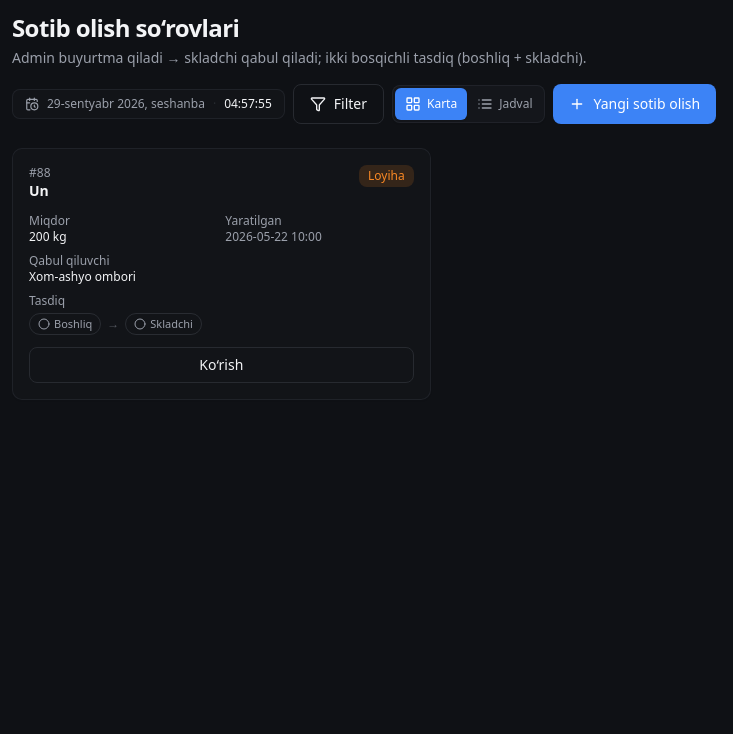
PurchaseOrdersPage › lets a supply_manager sign the manager step but not the keeper step
Expected: the text "Un" is shown, [29,181,50,201]
Click the button "Ko‘rish". click: (221, 365)
box: [29,347,414,383]
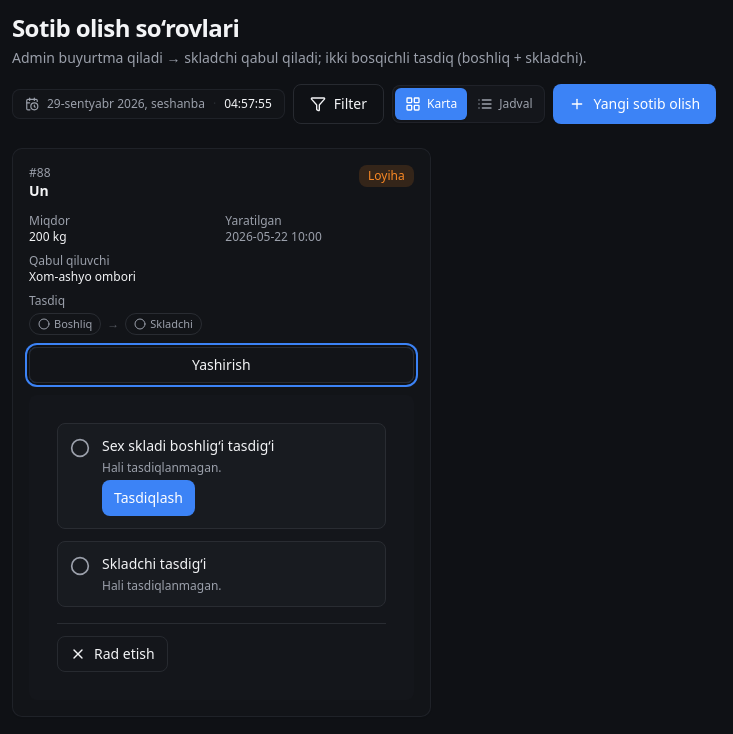
Now the button with aria-label "Tasdiqlash (boshliq)" is shown, box [102,480,195,516]
